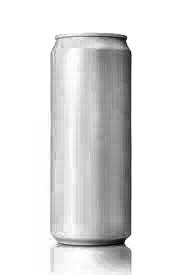can: (36, 19, 152, 260)
